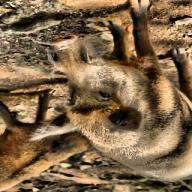boar: (31, 1, 191, 183), (0, 88, 90, 192)
